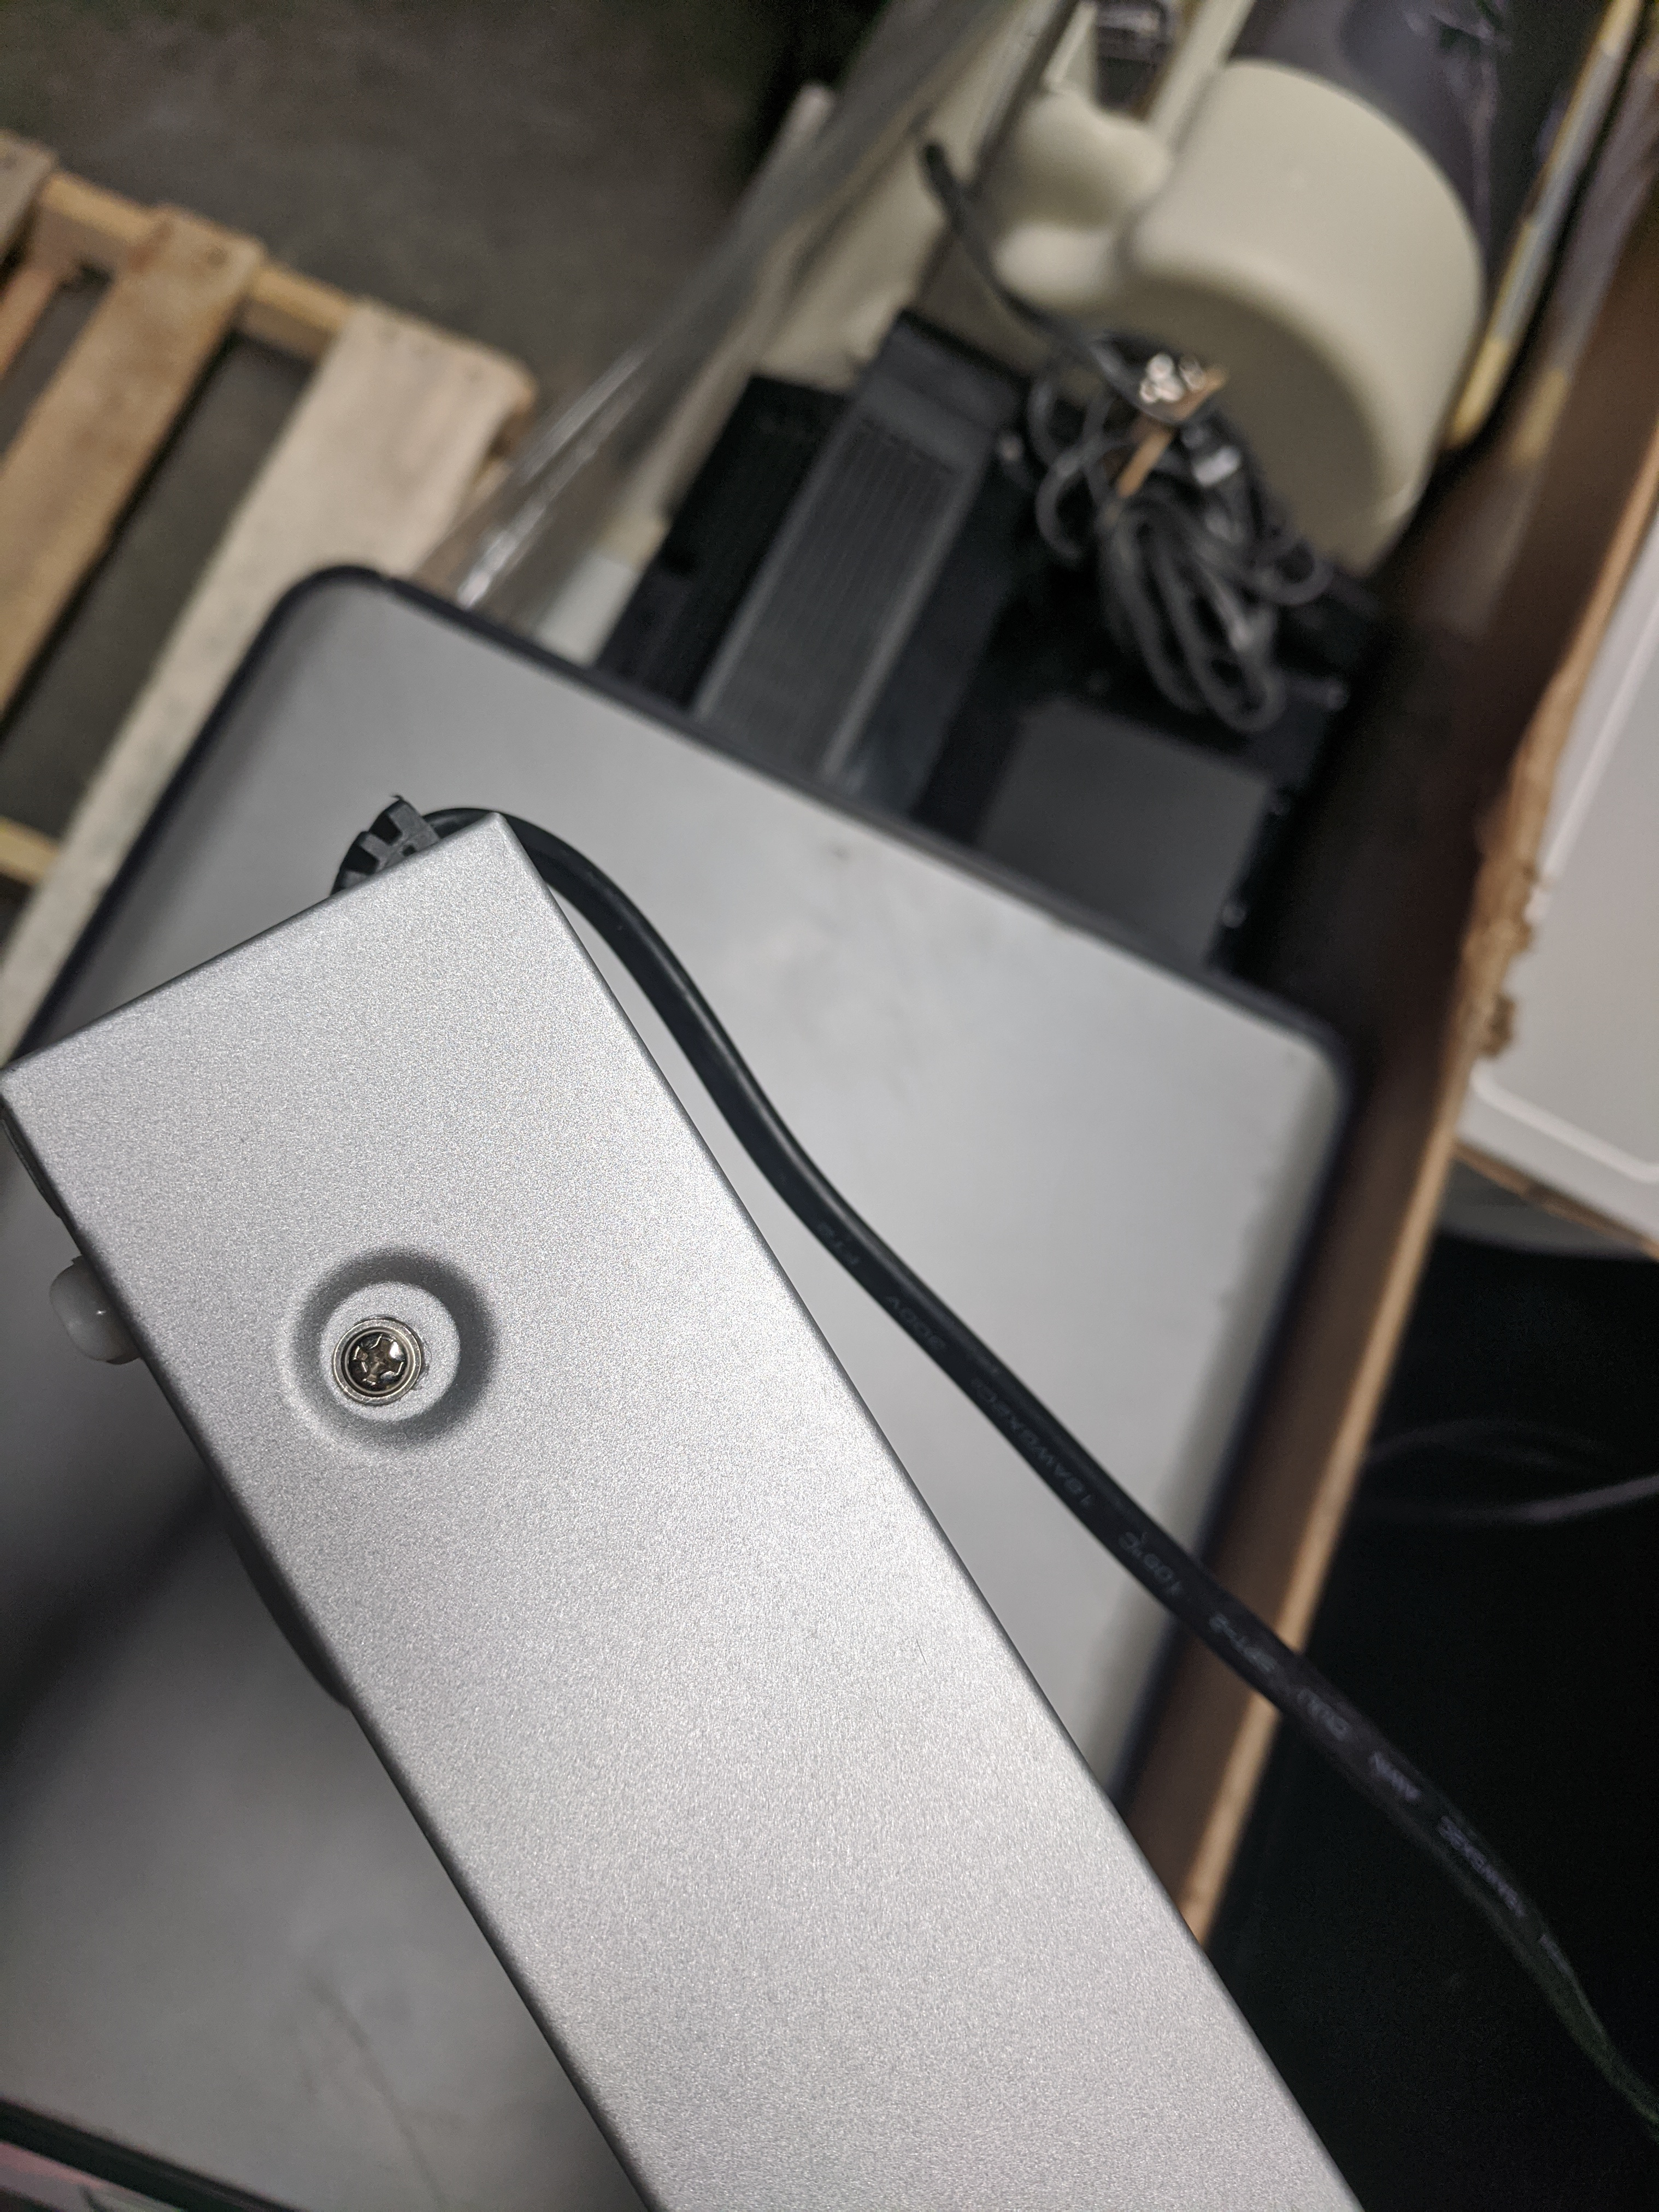cross_recessed_screw: (319, 1306, 418, 1407)
